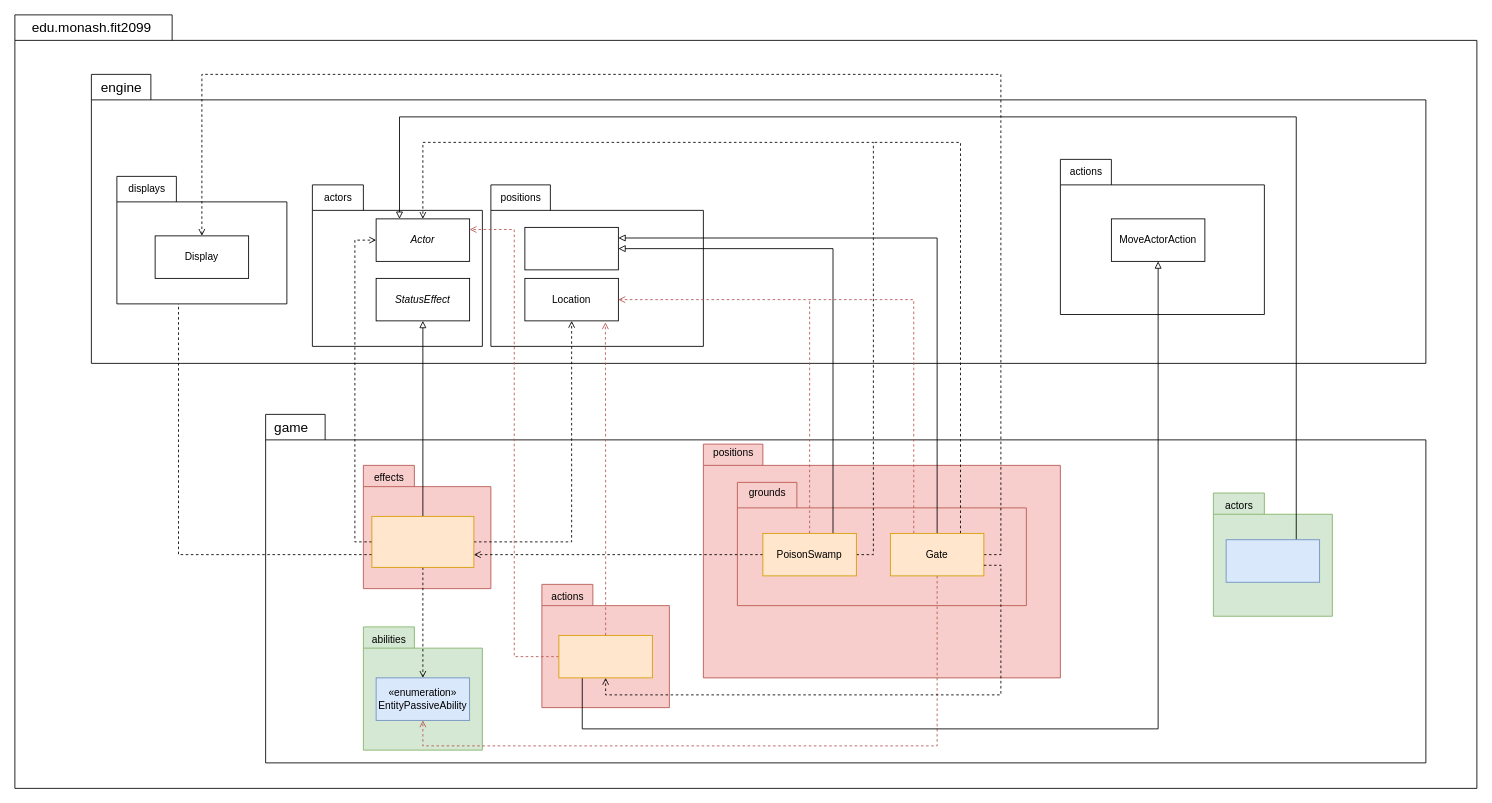
This 1492x803 diagram has some shape labels left out. Here are the shapes that lost their labels. From the top down, the centre of each, then its label:
At point (571, 248): "Ground".
At point (422, 541): "PoisonEffect".
At point (1272, 560): "Player".
At point (605, 656): "MovePlayerAction".
